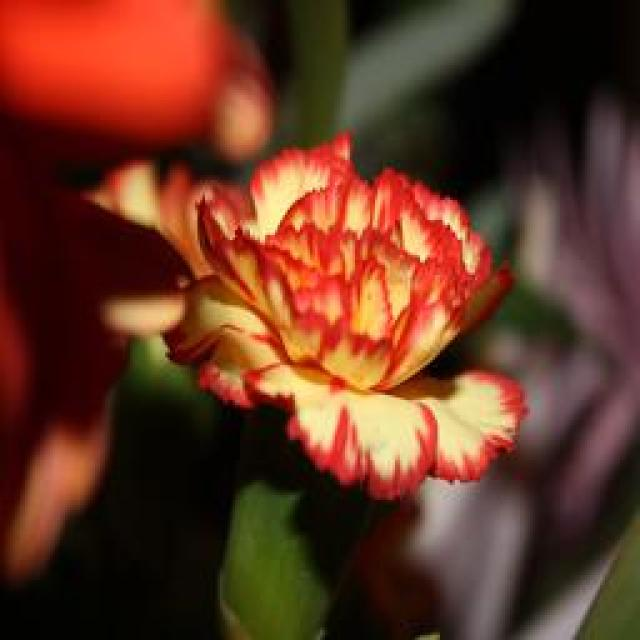carnation: (164, 133, 552, 507)
